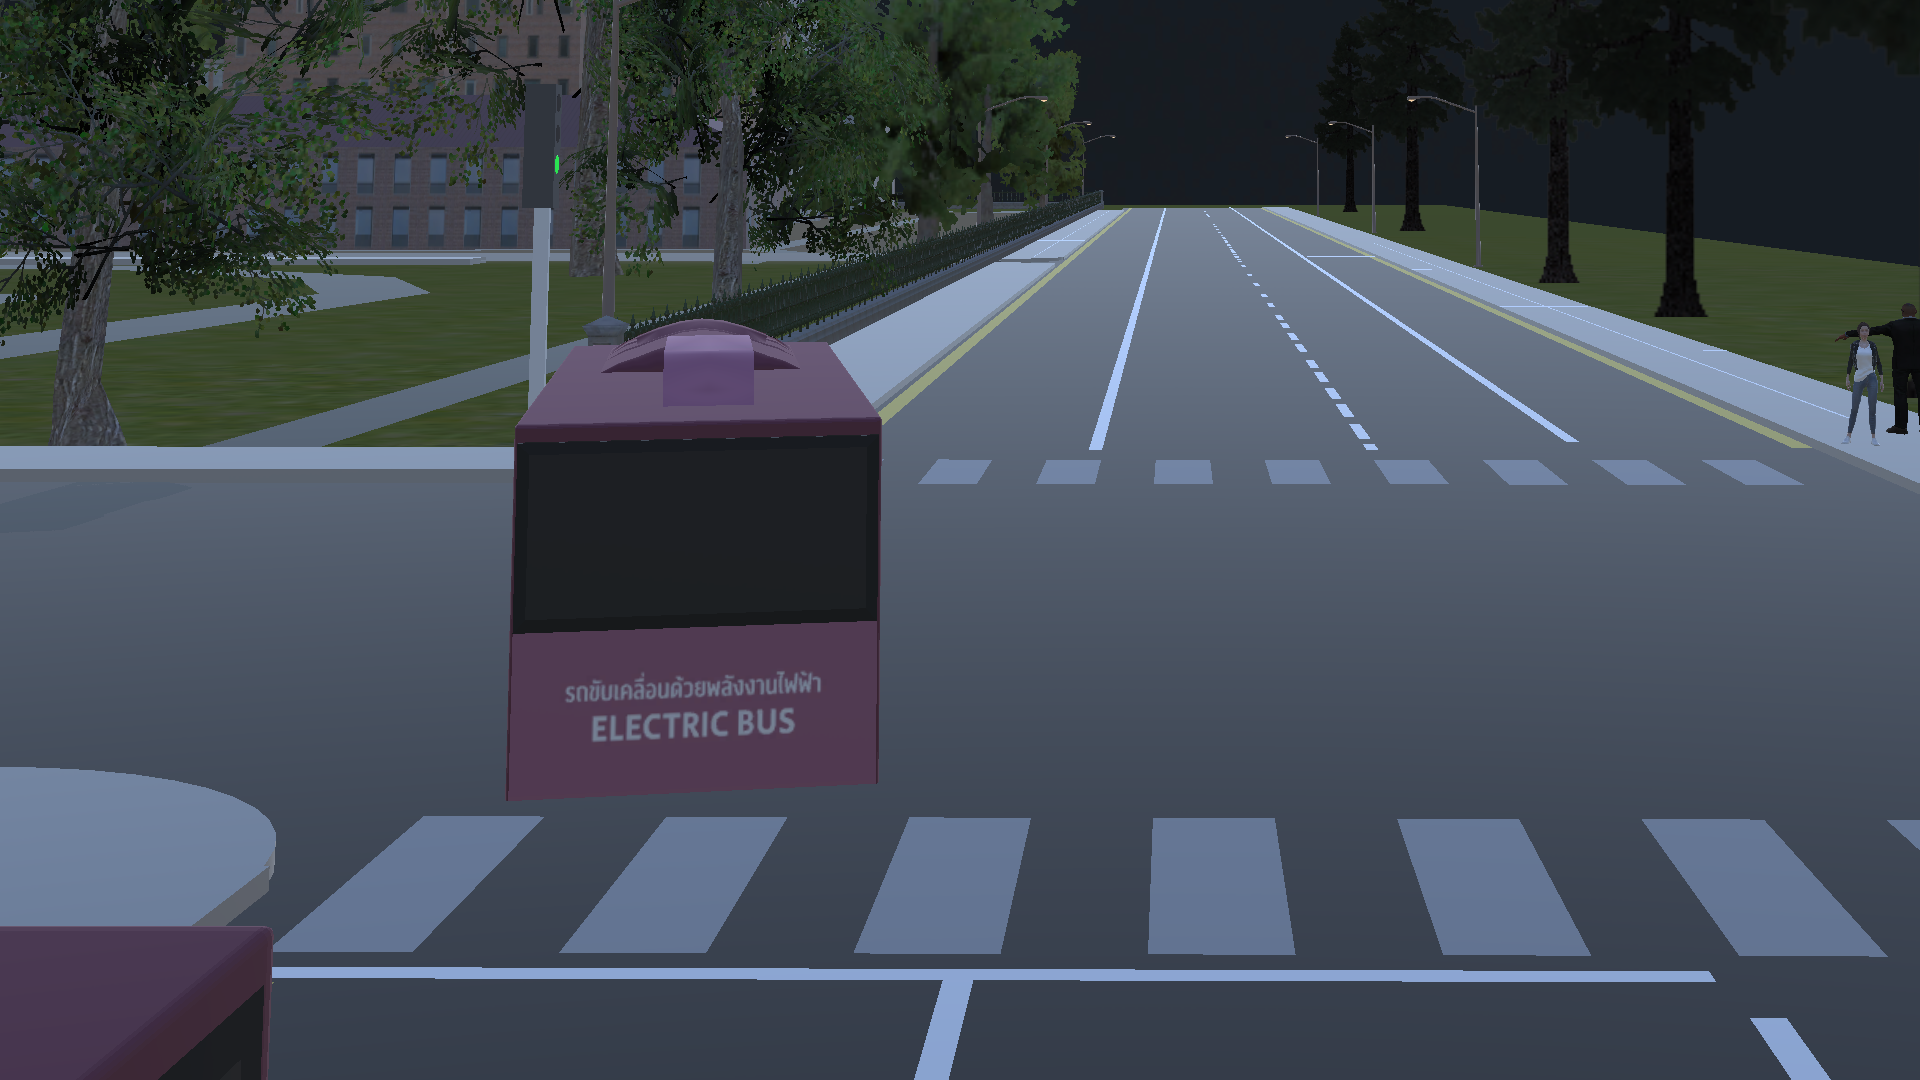pedestrian: (1834, 317, 1889, 446), (1878, 281, 1920, 439)
